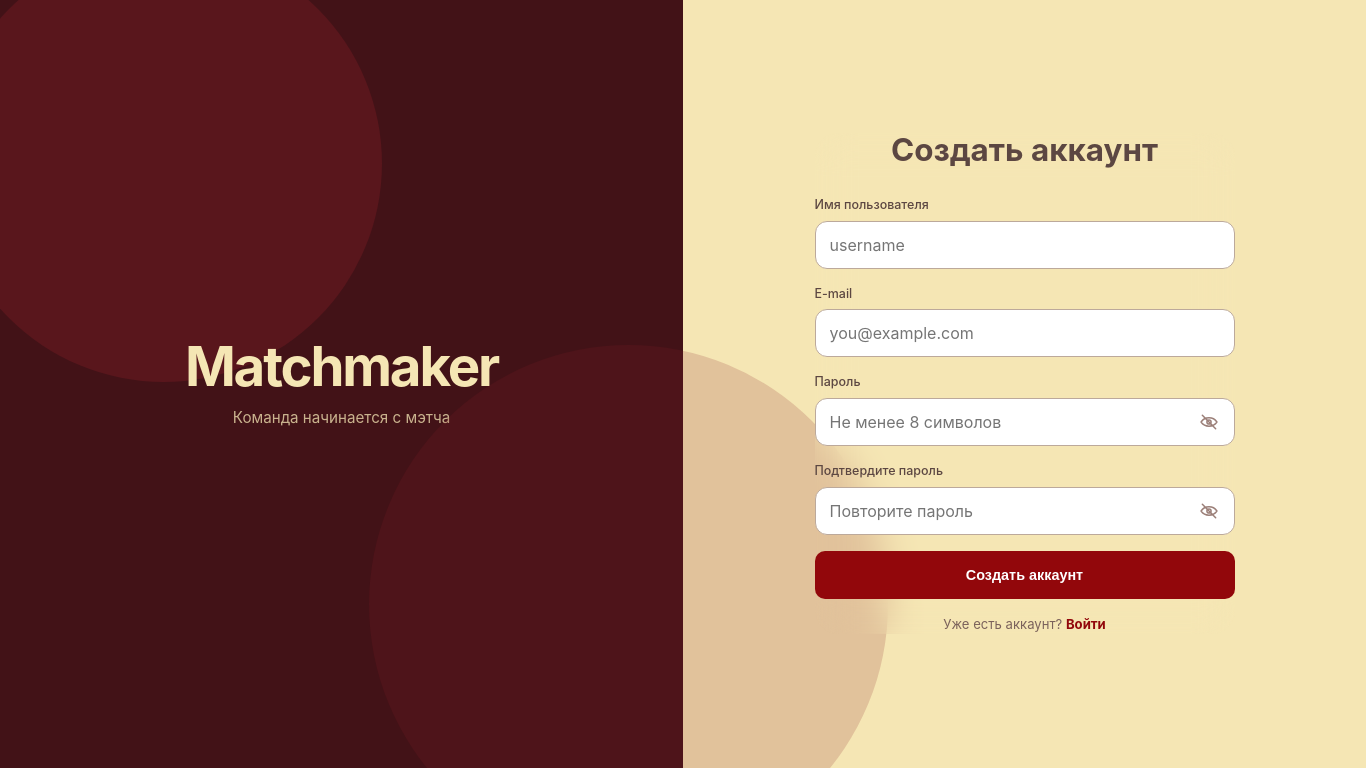
Test: auth pages › shows auth errors from the provider on the register form
This screenshot has width=1366, height=768.
Type "existing-user" into the field labelled "Имя пользователя" at (1024, 245), box x1=814 y1=221 x2=1234 y2=269
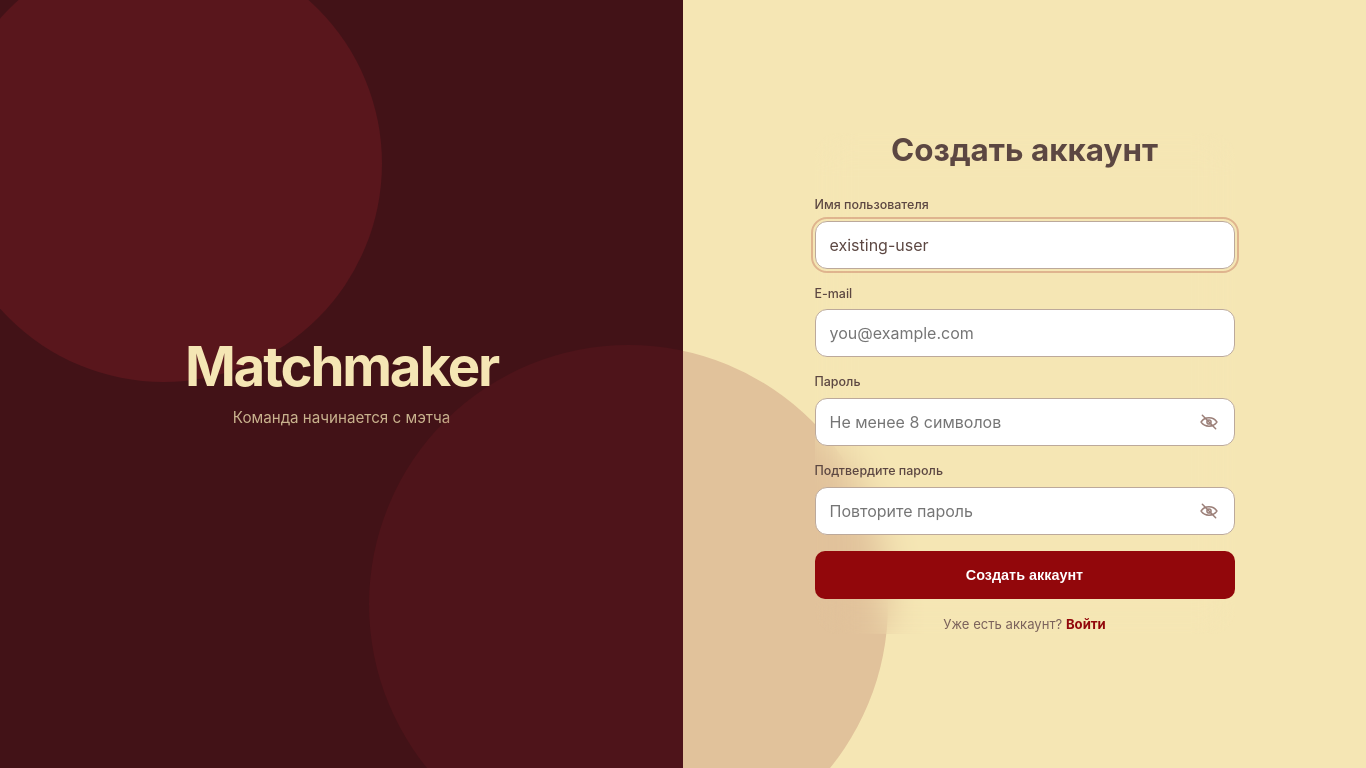
Type " TEST@example.com " into the field labelled "E-mail" at (1024, 333), box x1=814 y1=309 x2=1234 y2=357
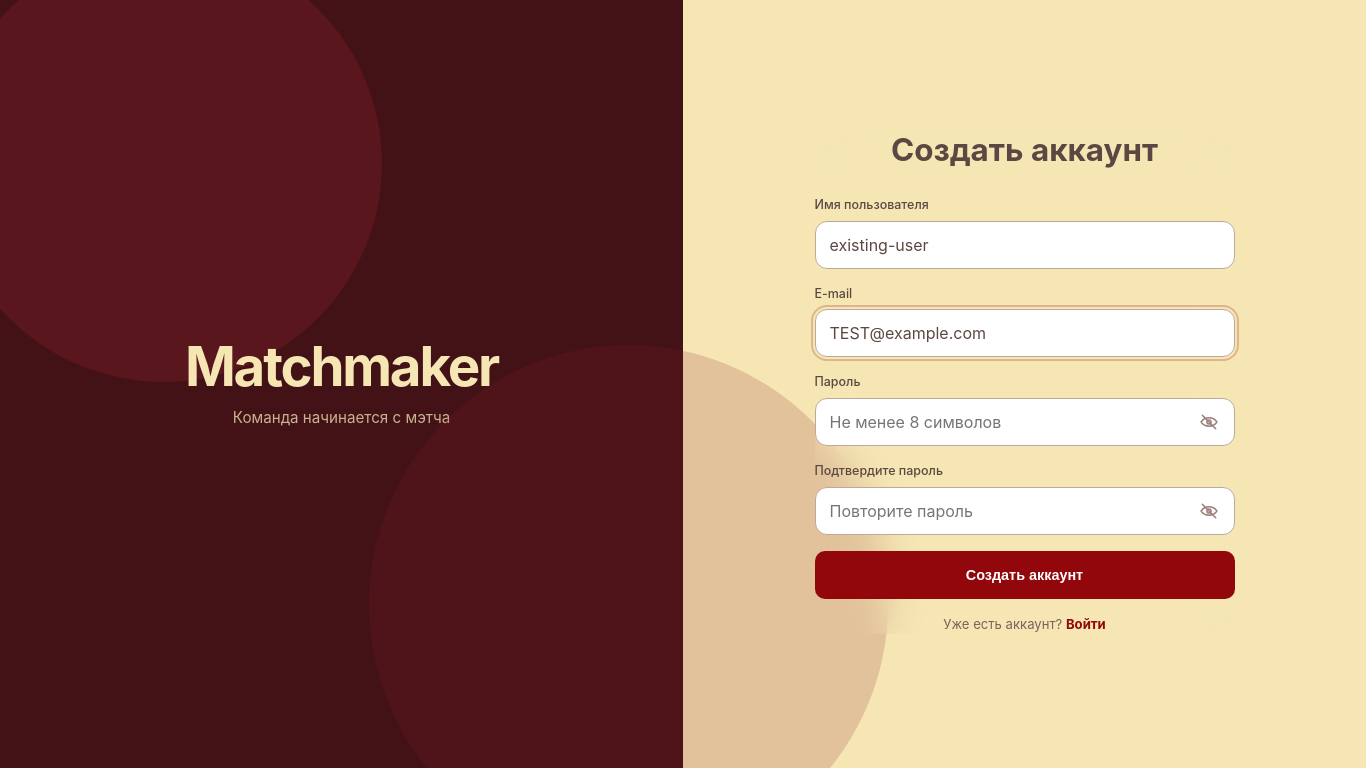
Type "password123" into the password field labelled "Пароль" at (1024, 422), box x1=814 y1=398 x2=1234 y2=446
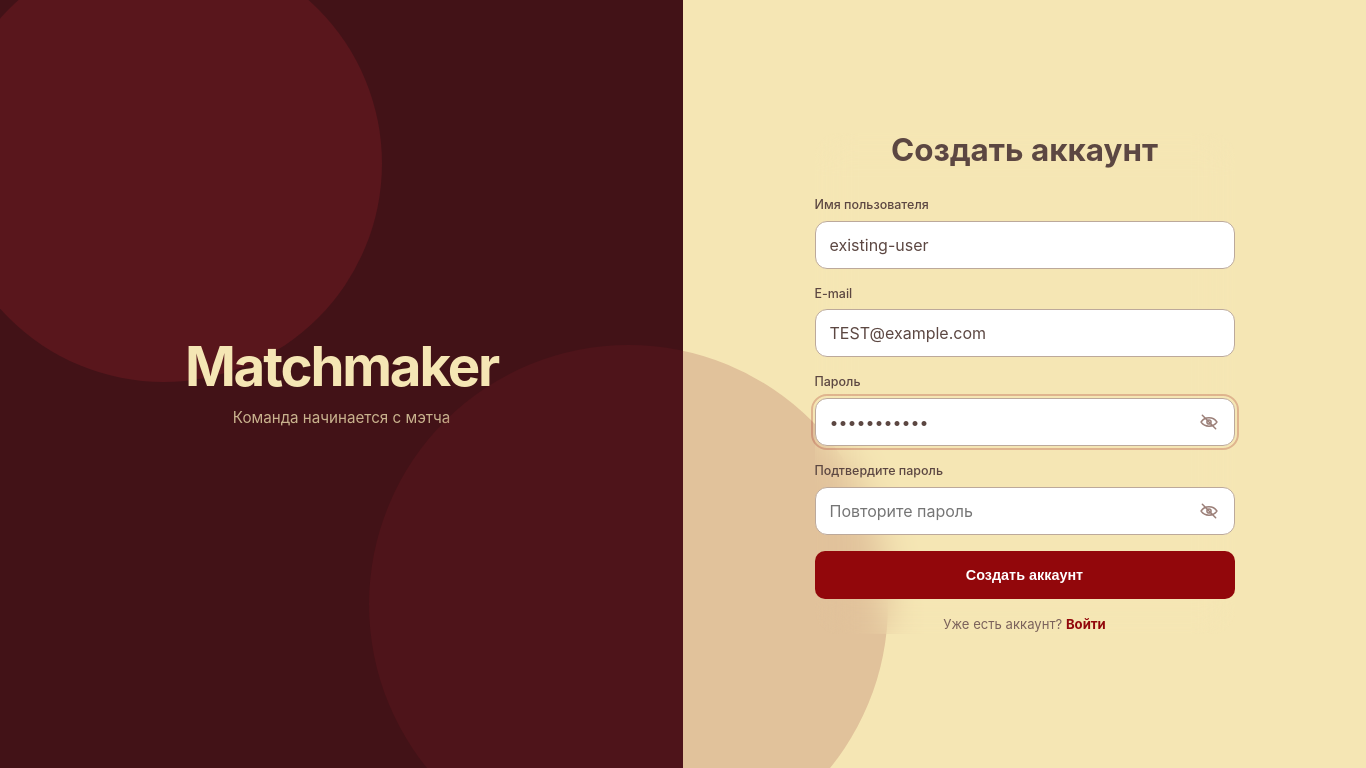
Type "password123" into the password field labelled "Подтвердите пароль" at (1024, 511), box x1=814 y1=487 x2=1234 y2=535
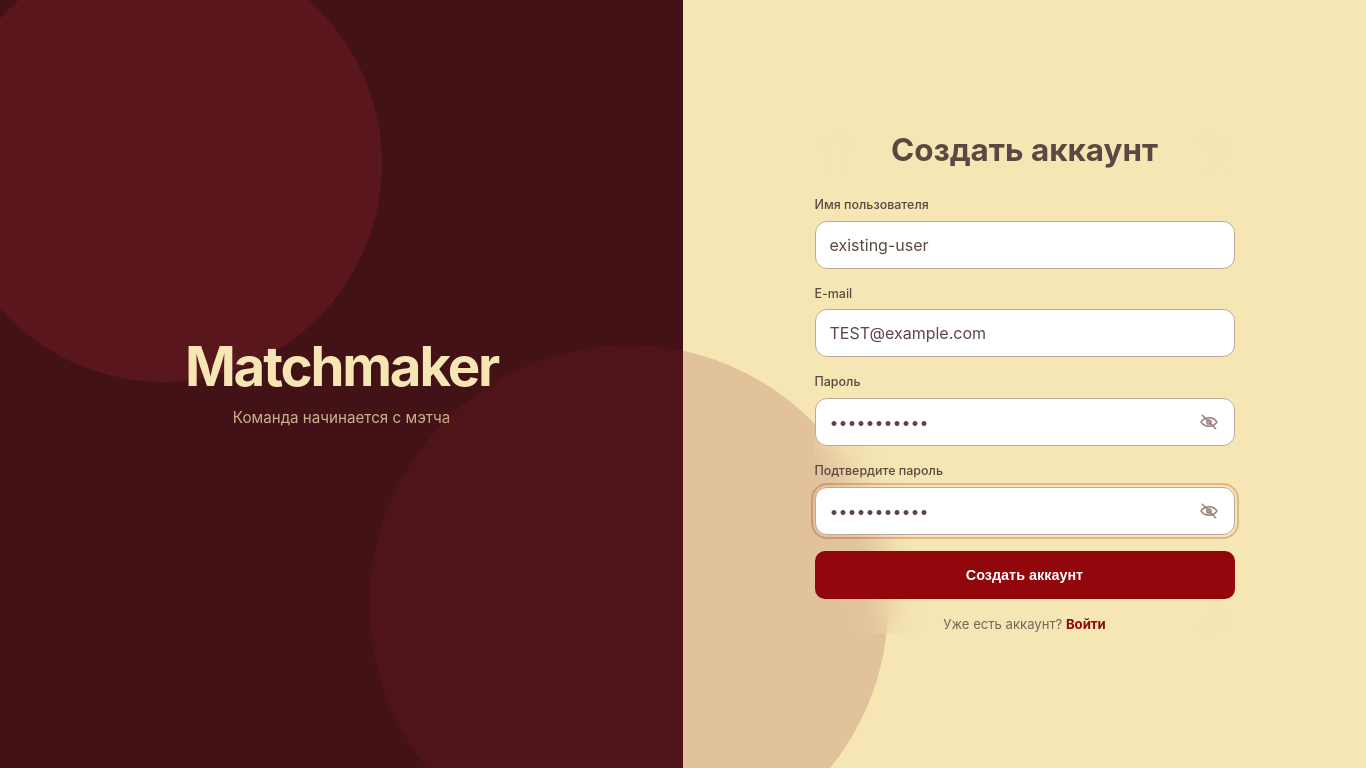
Click the button "Создать аккаунт" at (1024, 575), box x1=814 y1=551 x2=1234 y2=599
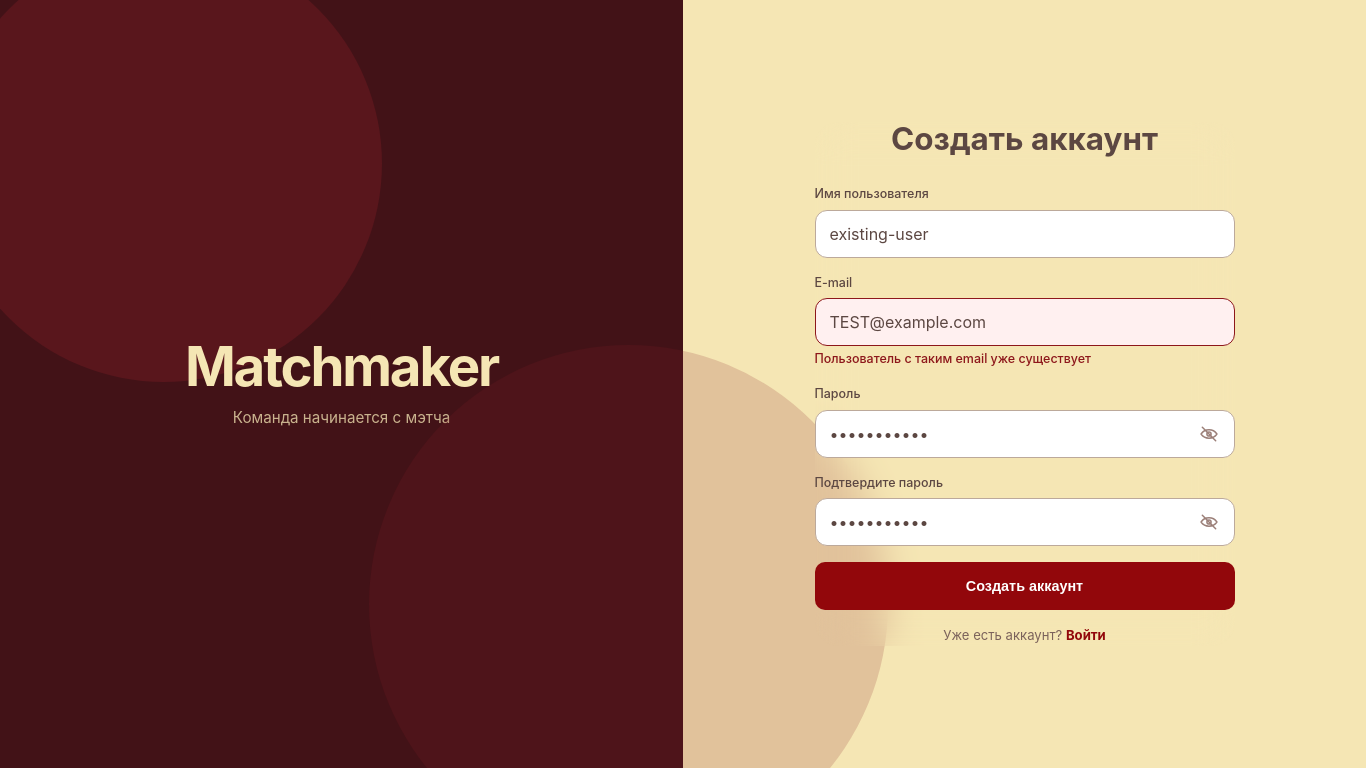
Now the message reads "Пользователь с таким email уже существует", box x1=814 y1=351 x2=1091 y2=366
